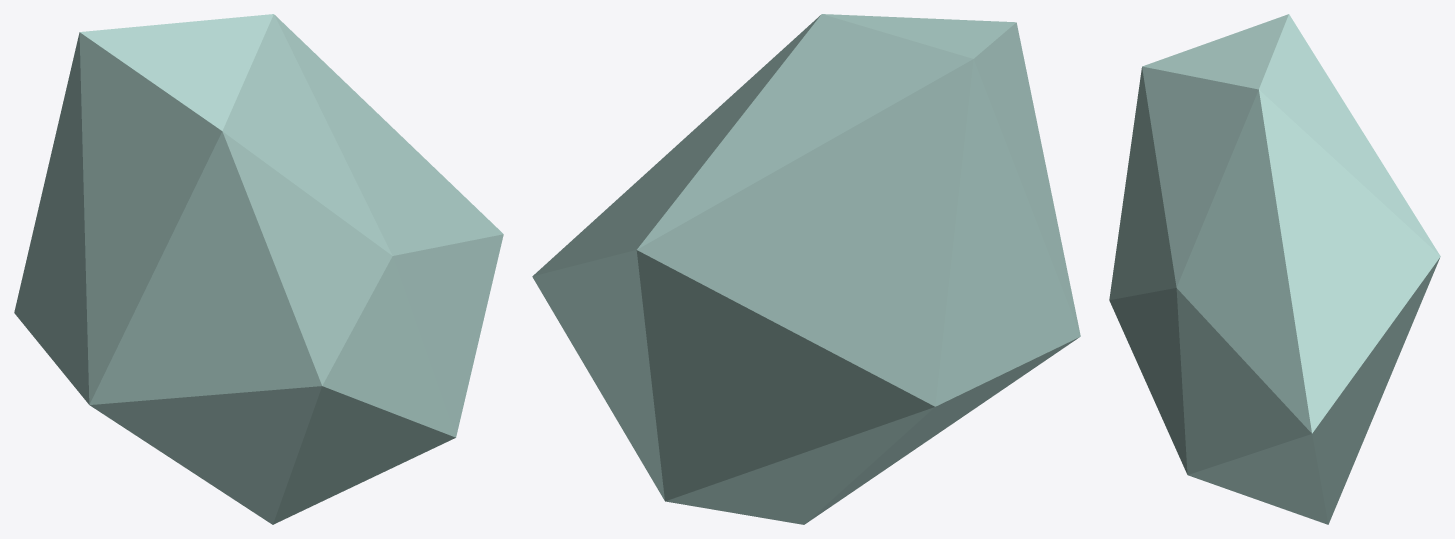
Rendered from smallrock2.glb.
3 renders of one model, left to right at view 1: azimuth 30°, elevation 25°; view 2: azimuth 150°, elevation 25°; view 3: azimuth 270°, elevation 25°, orthographic. The views are drawn at different scales.
Parts seen in each view (by area): view 1: Stone1.002; view 2: Stone1.002; view 3: Stone1.002.
Part boxes in pixels (left/top/right/bottom): Stone1.002: left=14, top=14, right=503, bottom=524; Stone1.002: left=532, top=14, right=1080, bottom=524; Stone1.002: left=1109, top=14, right=1440, bottom=524.
Size of the model in its own units: 0.6699 by 0.6945 by 0.5002.
